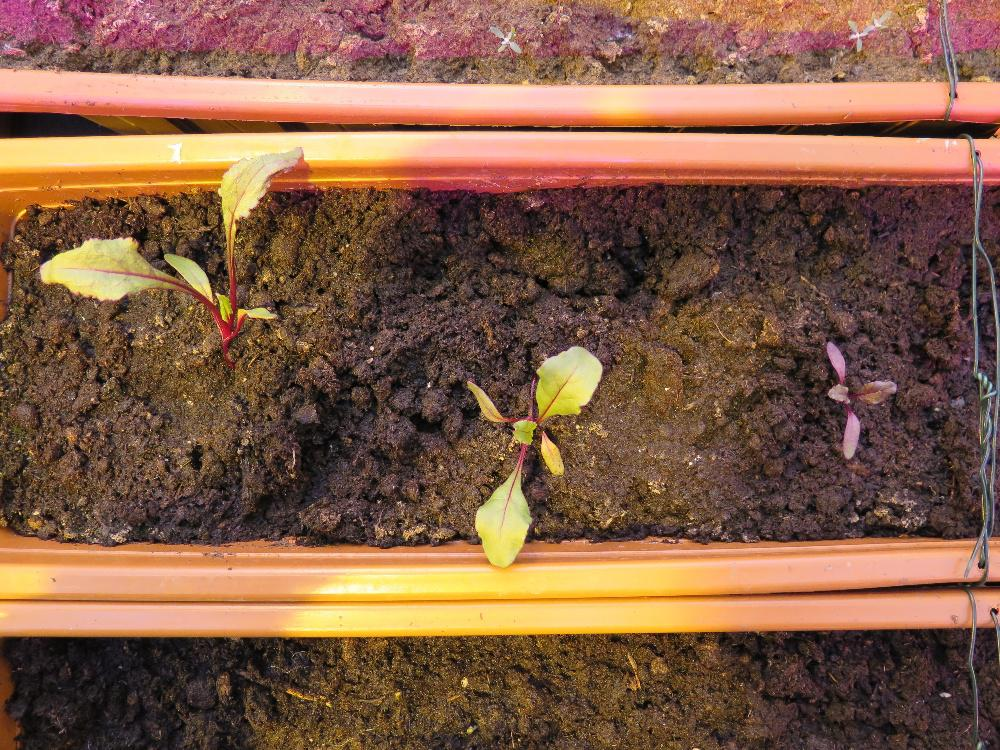weed: (487, 24, 522, 55)
